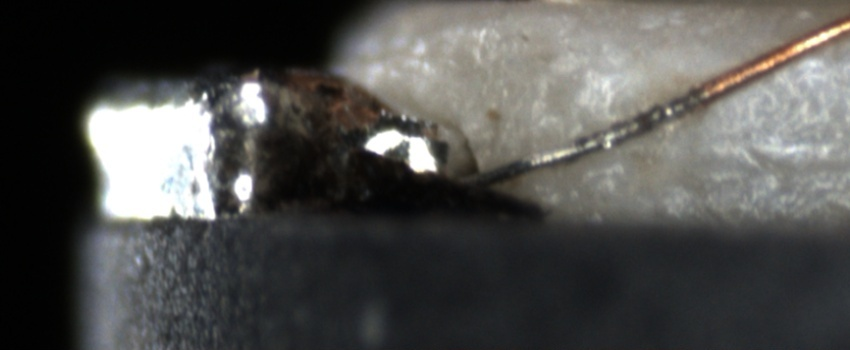DL: (630, 131, 850, 195)
TS: (456, 88, 705, 186)
TTCW: (468, 66, 766, 194)
